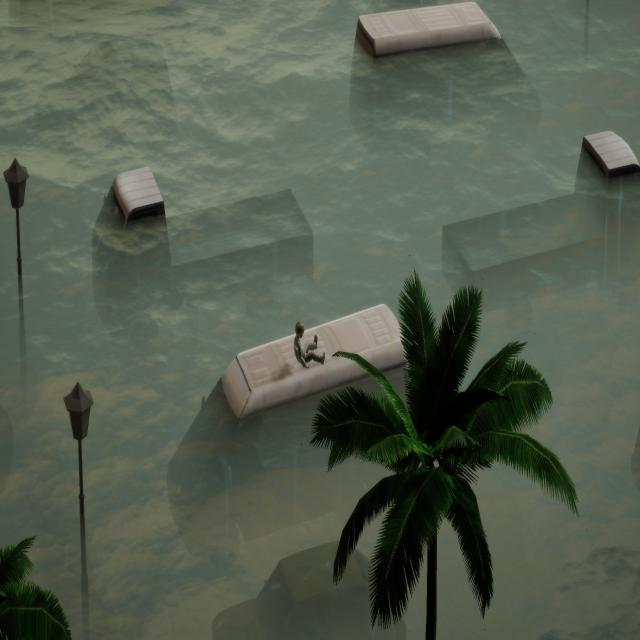Human: (289, 312, 330, 376)
